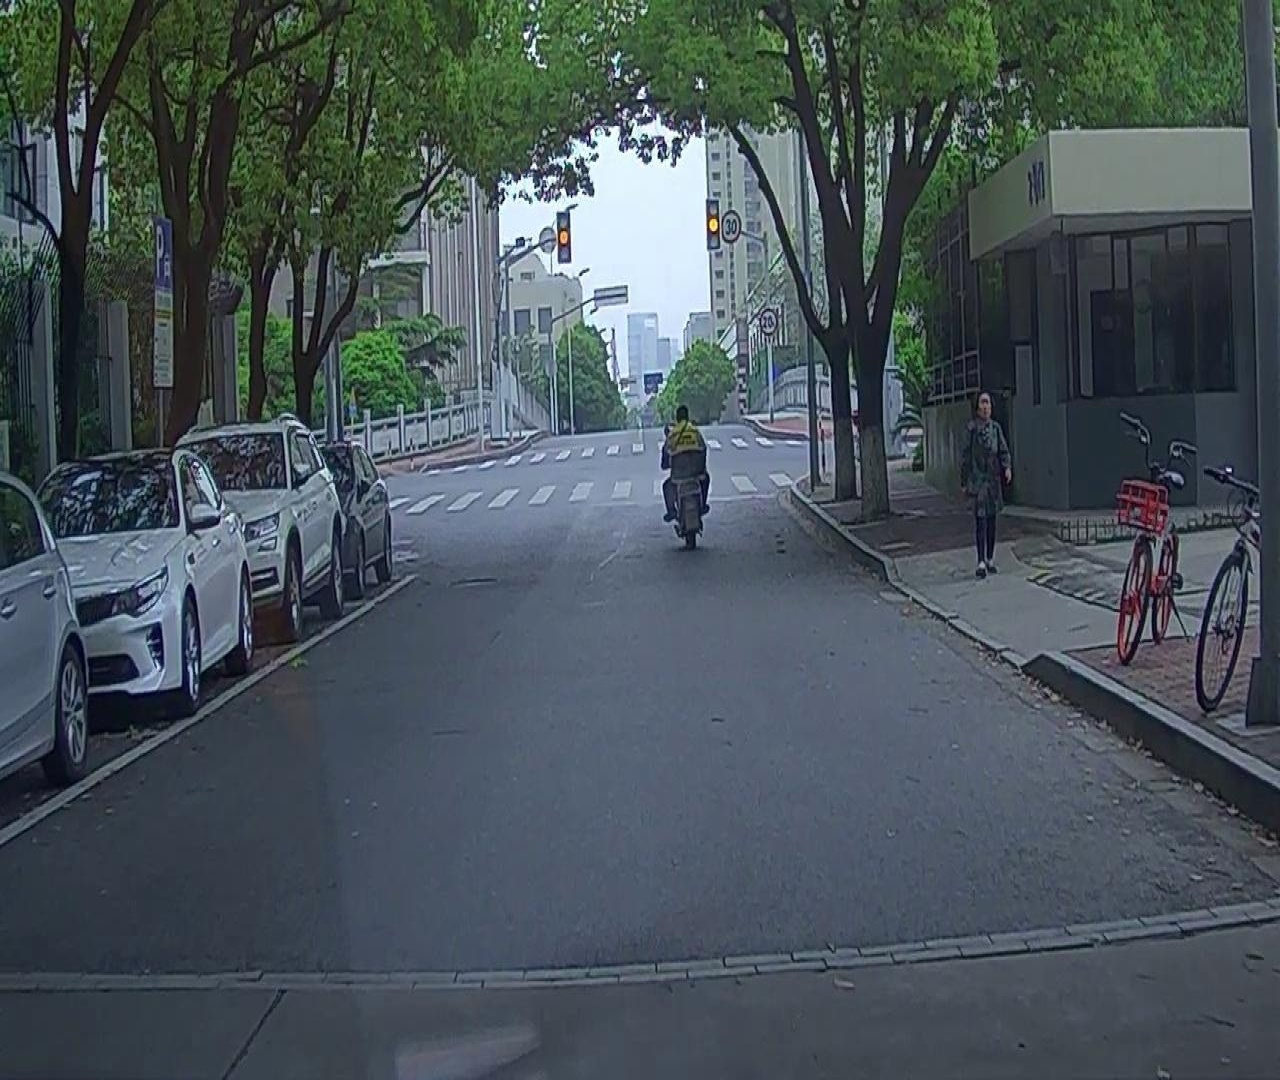yellow: (557, 214, 571, 264), (707, 199, 720, 250)
